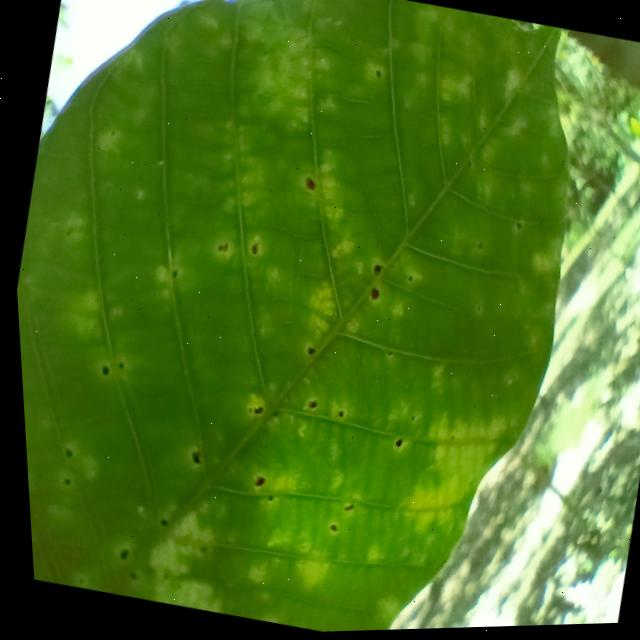Colletotrichum: (302, 178, 315, 192), (246, 476, 259, 488), (184, 450, 196, 463), (365, 290, 377, 302), (367, 265, 378, 278)
